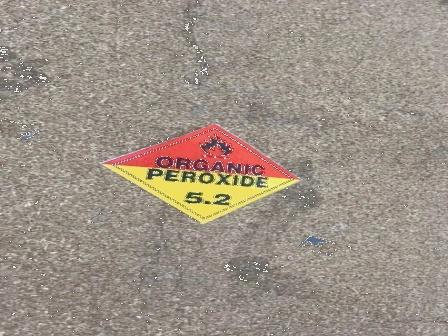organic-peroxide: (101, 126, 299, 222)
